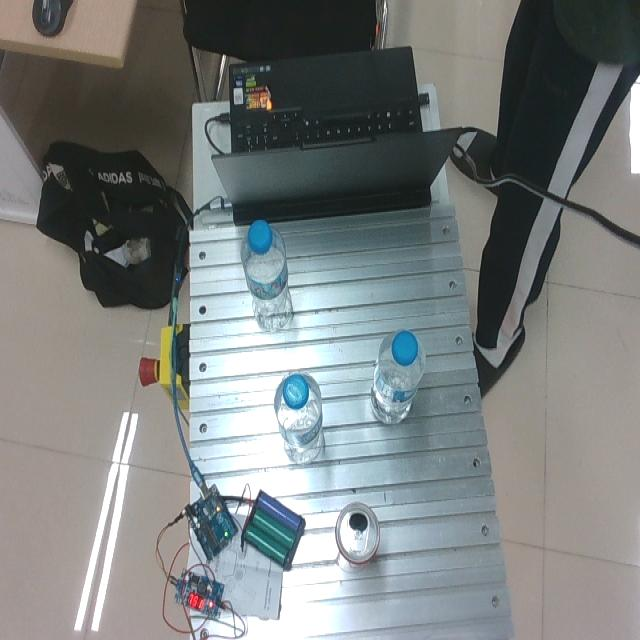coca: (335, 501, 379, 568)
lavie: (241, 219, 292, 332), (370, 329, 424, 423), (274, 370, 323, 462)
